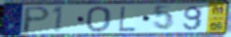1: (51, 5, 64, 34)
5: (153, 4, 176, 33)
9: (182, 5, 204, 31)
L: (117, 5, 137, 32)
O: (85, 5, 113, 33)
P: (21, 6, 52, 34)
